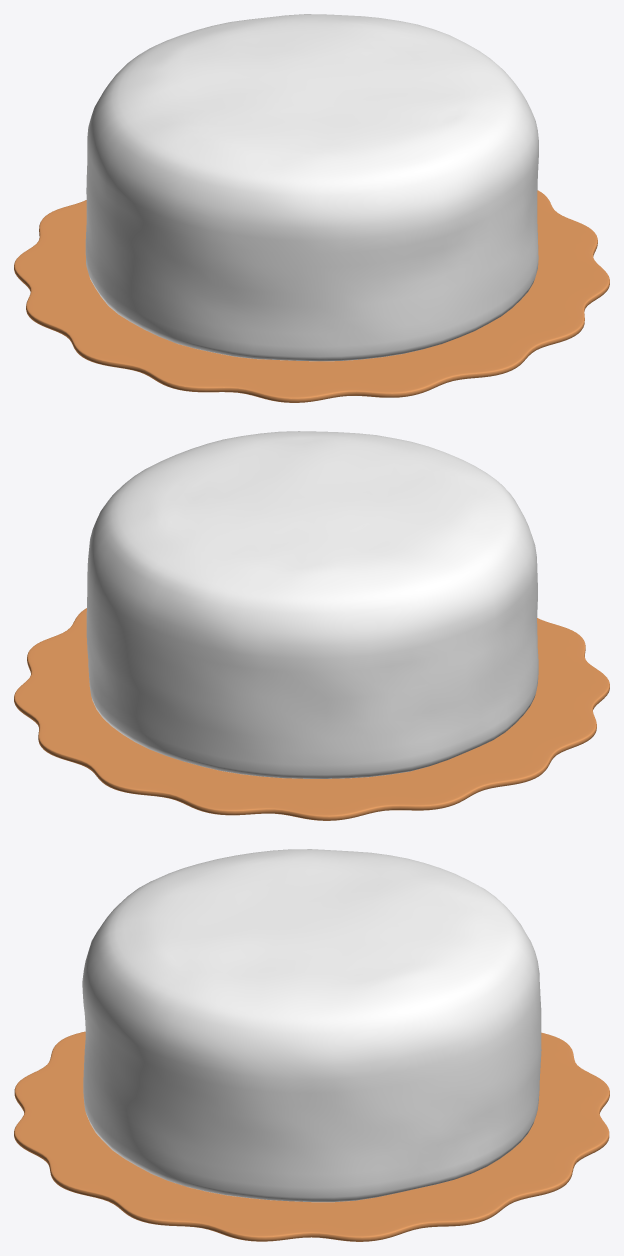
3 views of the same model, one above another, from view 1: azimuth 30°, elevation 25°; view 2: azimuth 150°, elevation 25°; view 3: azimuth 270°, elevation 25° (orthographic).
Parts seen in each view (by area): view 1: body, base; view 2: body, base; view 3: body, base.
Part boxes in pixels (left/top/right/bottom): body: left=85, top=14, right=538, bottom=361; base: left=14, top=190, right=609, bottom=402; body: left=86, top=431, right=538, bottom=778; base: left=14, top=608, right=609, bottom=820; body: left=82, top=849, right=541, bottom=1202; base: left=14, top=1031, right=609, bottom=1241.
Size of the model in its own units: 2.59 by 0.9535 by 2.59.
